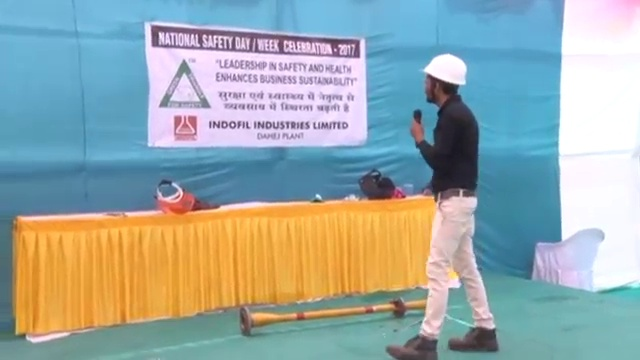helmet: (417, 52, 468, 88)
helmet_on: (417, 52, 468, 108)
person: (390, 54, 499, 360)
